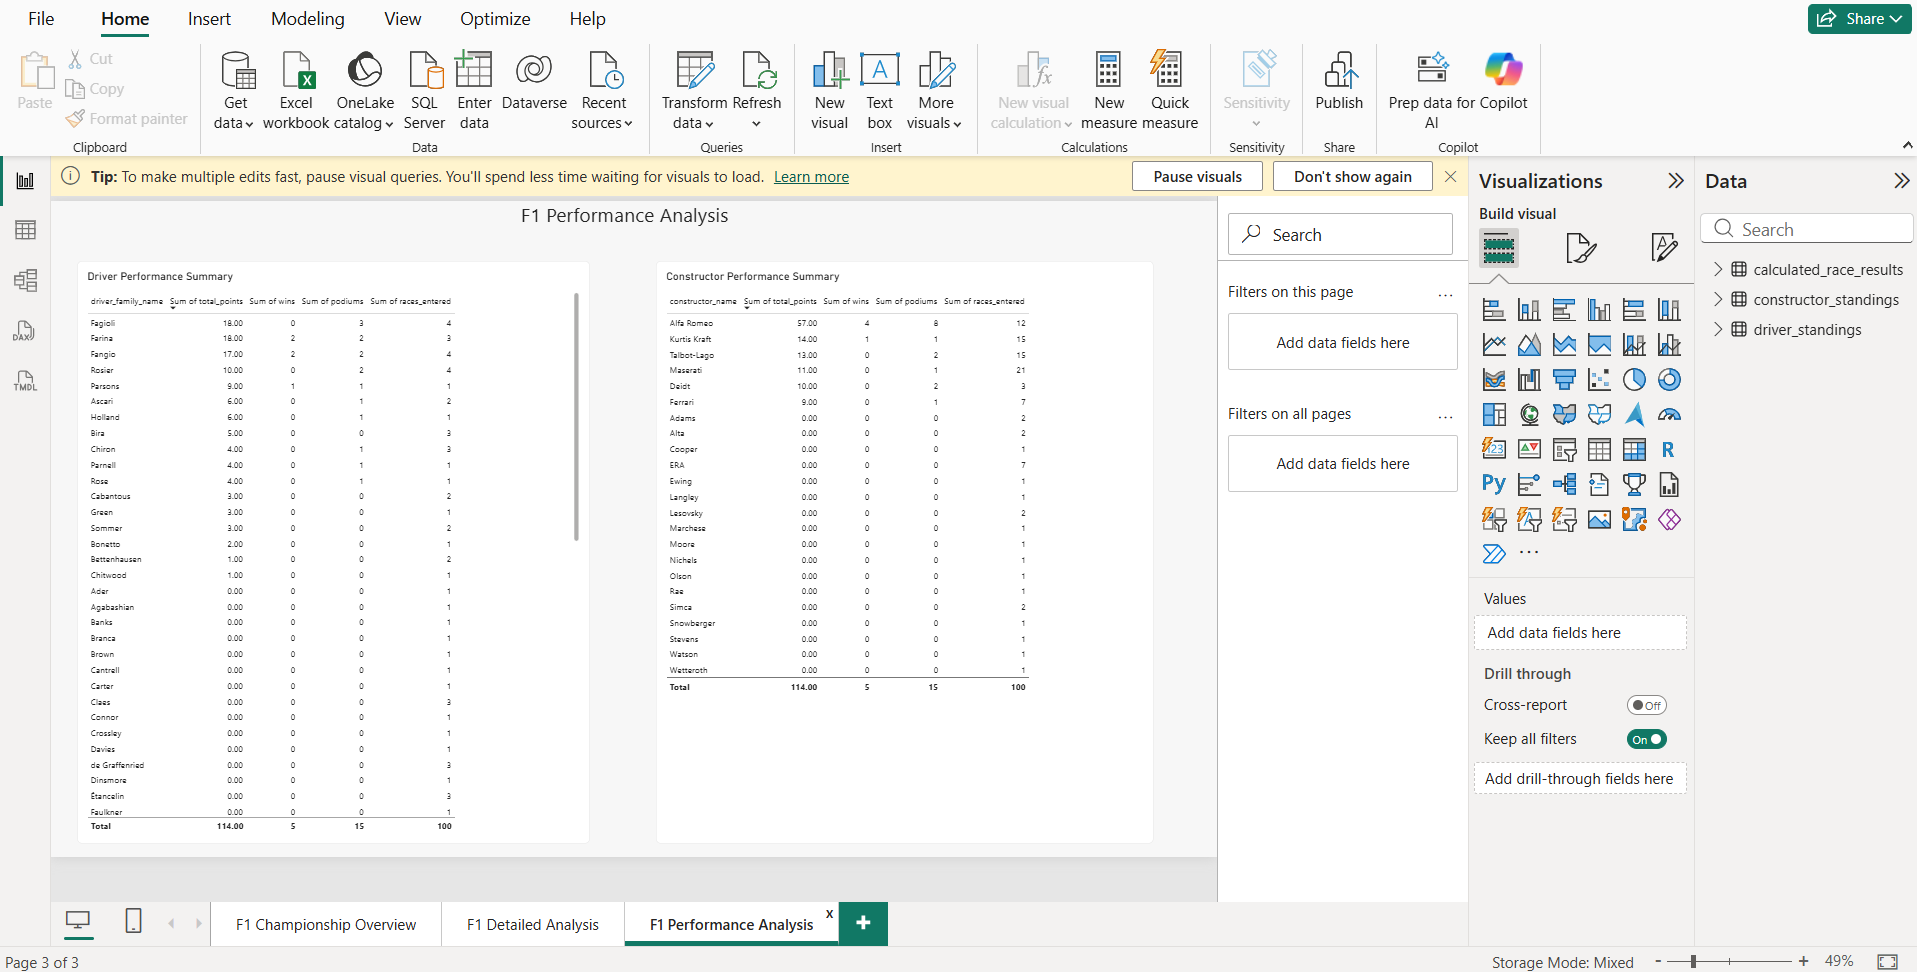

What the dashboard file says about the page in this screenshot:
{"tool":"powerbi","page":{"name":"F1 Performance Analysis","canvas":[1920,1080],"ordinal":2},"visuals":[{"type":"tableEx","title":"Driver Performance Summary","fields":{"Values":["driver_standings.driver_family_name","Sum(driver_standings.total_points)","Sum(driver_standings.wins)","Sum(driver_standings.podiums)","Sum(driver_standings.races_entered)"]},"box":[43.2,98.8,843.9,959.2],"z":0},{"type":"tableEx","title":"Constructor Performance Summary","fields":{"Values":["constructor_standings.constructor_name","Sum(constructor_standings.total_points)","Sum(constructor_standings.wins)","Sum(constructor_standings.podiums)","Sum(constructor_standings.races_entered)"]},"box":[996.2,98.8,819.2,959.2],"z":1},{"type":"textbox","box":[773.9,0,916,148.2],"z":2}]}

Visuals, with their boxes on the page's 1920x1080 design canvas (x1, y1, x2, y2). These are canvas units, not pixel positions in the 1917x972 screenshot, which may show the page scaled, cropped or inside an application window:
"Driver Performance Summary" tableEx: (left=43, top=99, right=887, bottom=1058)
"Constructor Performance Summary" tableEx: (left=996, top=99, right=1815, bottom=1058)
textbox: (left=774, top=0, right=1690, bottom=148)
